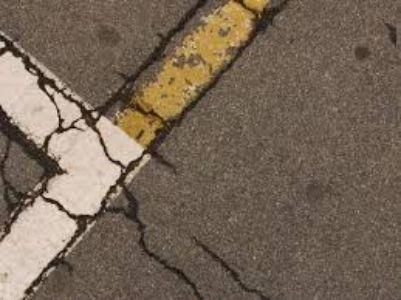alligator-crack: (2, 6, 268, 300)
